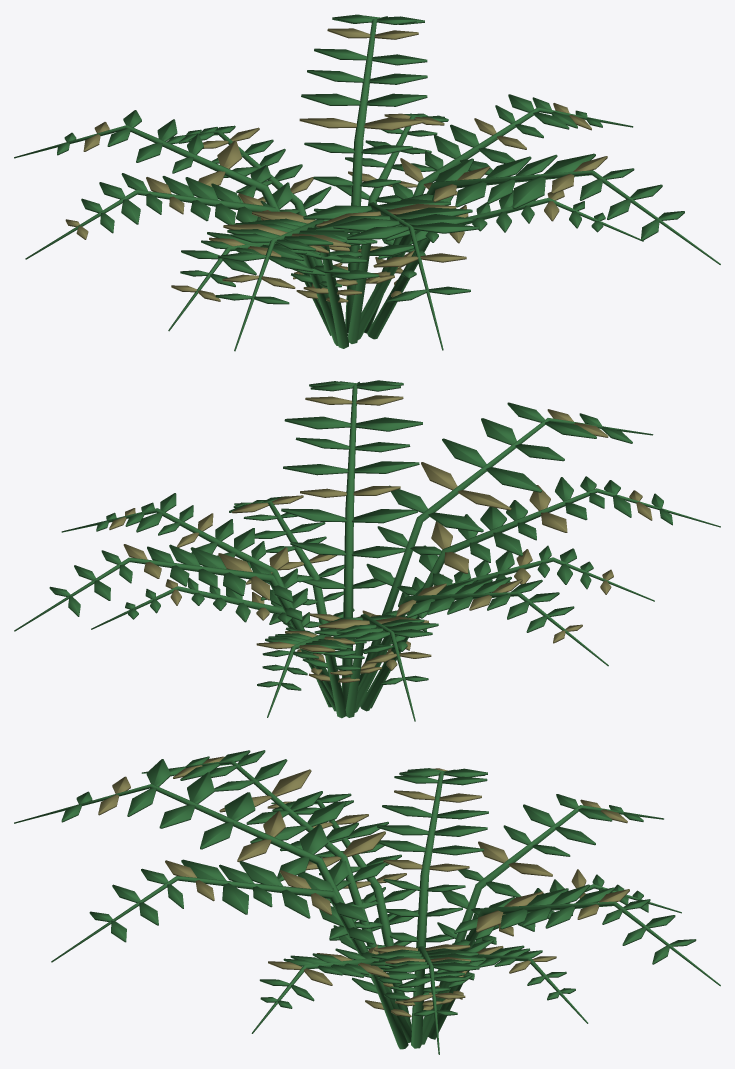
Rendered from MSH_Fern_C.fbx.
3 renders of one model, top to bottom at view 1: azimuth 30°, elevation 25°; view 2: azimuth 150°, elevation 25°; view 3: azimuth 270°, elevation 25°, orthographic. The views are drawn at different scales.
Visible parts, largest first — view 1: MSH_Fern_C_Fronds3D; view 2: MSH_Fern_C_Fronds3D; view 3: MSH_Fern_C_Fronds3D.
Boxes of the visible parts, left/top/right/bottom form: MSH_Fern_C_Fronds3D: left=14, top=14, right=720, bottom=351; MSH_Fern_C_Fronds3D: left=14, top=380, right=720, bottom=721; MSH_Fern_C_Fronds3D: left=14, top=750, right=720, bottom=1054.
Bounding box in the file's own units: 1.63 × 0.6053 × 1.76.
